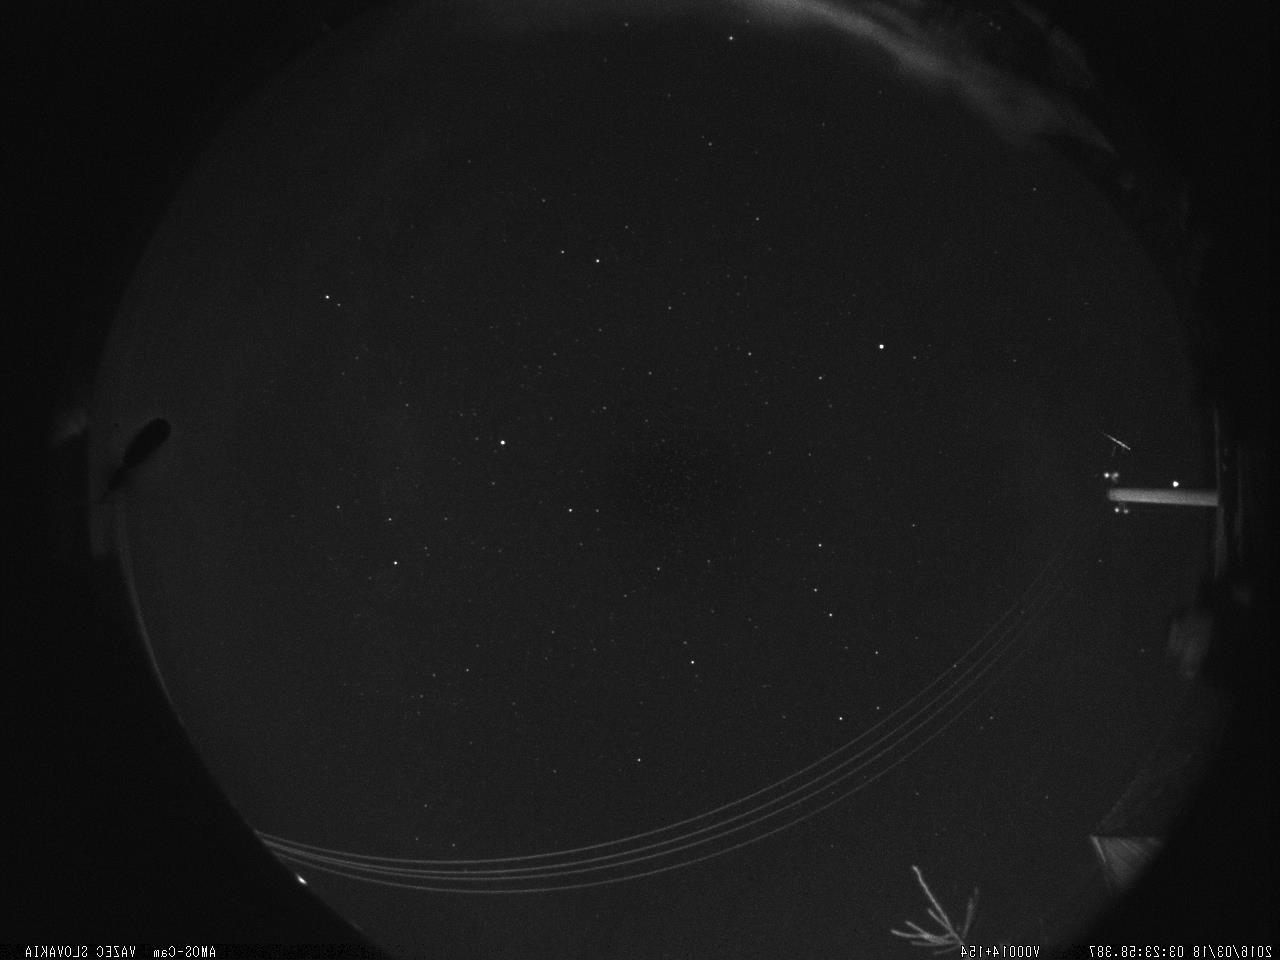meteor: (1085, 421, 1142, 454)
